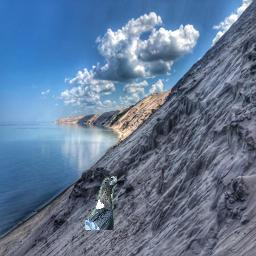Crow: (85, 176, 117, 230)
